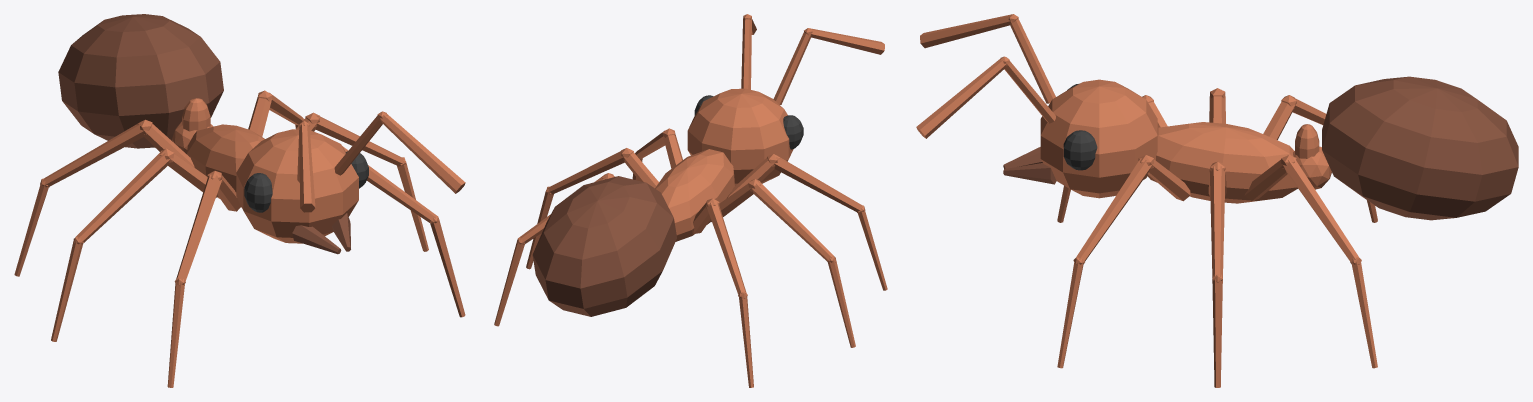
The model's file is fourmi.glb.
The picture shows the model from 3 angles, left to right: view 1: azimuth 30°, elevation 25°; view 2: azimuth 150°, elevation 25°; view 3: azimuth 270°, elevation 25°; orthographic projection. The views are drawn at different scales.
Visible parts, largest first — view 1: Fourmi_Body, Head, Leg_L2_1, Leg_L3_1, Leg_L1_1, Antenna_R_1, Antenna_L_1, Leg_R2_1, Leg_R1_1, Leg_L2_2, Leg_L1_2, Leg_R1_2 (+8 smaller); view 2: Fourmi_Body, Head, Leg_L2_1, Leg_L1_1, Leg_L3_1, Leg_R2_1, Antenna_L_1, Antenna_L_0, Leg_L2_2, Leg_L3_2, Antenna_R_0, Leg_R3_2 (+8 smaller); view 3: Fourmi_Body, Head, Leg_R3_1, Leg_R1_1, Leg_R2_1, Antenna_R_1, Antenna_L_1, Leg_R2_2, Antenna_L_0, Leg_R1_2, Leg_R3_2, Leg_R1_0 (+4 smaller).
Part boxes in pixels (<box>): Fourmi_Body: <box>58,14,264,207</box>; Head: <box>236,129,368,254</box>; Leg_L2_1: <box>75,148,174,243</box>; Leg_L3_1: <box>42,119,152,186</box>; Leg_L1_1: <box>176,171,222,282</box>; Antenna_R_1: <box>377,111,465,193</box>; Antenna_L_1: <box>299,121,315,212</box>; Leg_R2_1: <box>305,112,404,166</box>; Leg_R1_1: <box>342,146,436,223</box>; Leg_L2_2: <box>51,236,83,341</box>; Leg_L1_2: <box>167,278,185,387</box>; Leg_R1_2: <box>430,215,465,317</box>; Fourmi_Body: <box>532,149,734,316</box>; Head: <box>687,88,803,185</box>; Leg_L2_1: <box>748,179,834,261</box>; Leg_L1_1: <box>767,154,862,212</box>; Leg_L3_1: <box>706,198,746,295</box>; Leg_R2_1: <box>547,148,633,194</box>; Antenna_L_1: <box>804,28,884,54</box>; Antenna_L_0: <box>773,32,811,104</box>; Leg_L2_2: <box>827,256,855,347</box>; Leg_L3_2: <box>738,292,753,387</box>; Antenna_R_0: <box>741,19,751,89</box>; Leg_R3_2: <box>494,237,524,326</box>; Fourmi_Body: <box>1147,76,1518,220</box>; Head: <box>1003,79,1157,198</box>; Leg_R3_1: <box>1281,155,1359,262</box>; Leg_R1_1: <box>1076,155,1153,262</box>; Leg_R2_1: <box>1209,161,1225,277</box>; Antenna_R_1: <box>916,56,1009,138</box>; Antenna_L_1: <box>920,14,1018,48</box>; Leg_R2_2: <box>1212,274,1222,387</box>; Antenna_L_0: <box>1010,18,1055,103</box>; Leg_R1_2: <box>1057,257,1084,368</box>; Leg_R3_2: <box>1350,257,1377,368</box>; Leg_R1_0: <box>1147,159,1190,201</box>.
Size of the model in its own units: 0.6074 by 0.3956 by 0.8196.
